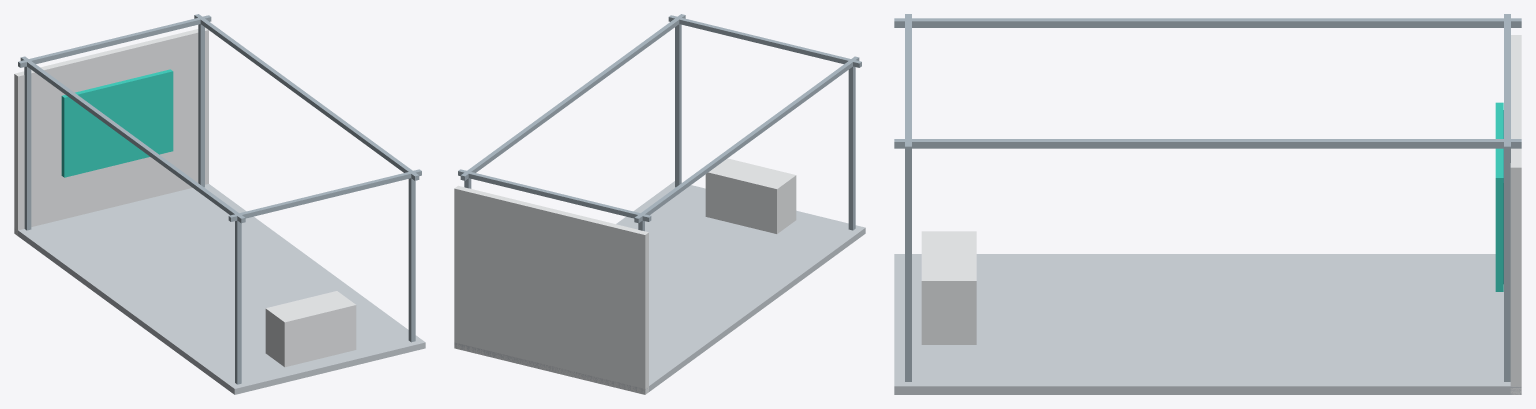
3 views of the same model, side by side, from view 1: azimuth 30°, elevation 25°; view 2: azimuth 150°, elevation 25°; view 3: azimuth 270°, elevation 25° (orthographic). The views are drawn at different scales.
Visible parts, largest first — view 1: Exhibition Booth Concept; view 2: Exhibition Booth Concept; view 3: Exhibition Booth Concept.
Boxes of the visible parts, box(x1,y1,x2,y2) form: Exhibition Booth Concept: box(14, 14, 425, 394); Exhibition Booth Concept: box(454, 14, 865, 394); Exhibition Booth Concept: box(894, 14, 1521, 394).
Bounding box in the file's own units: 4 × 3.49 × 8.
